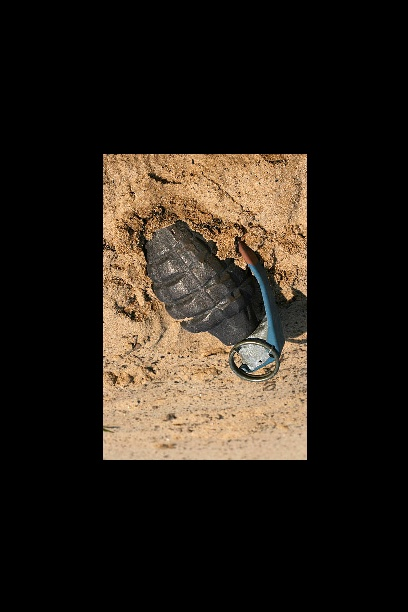e1: (143, 219, 284, 386)
